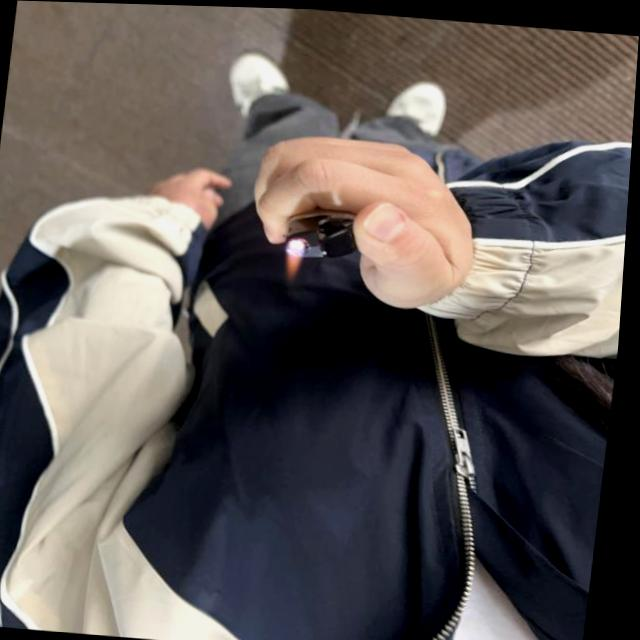Fire: (284, 248, 304, 274)
